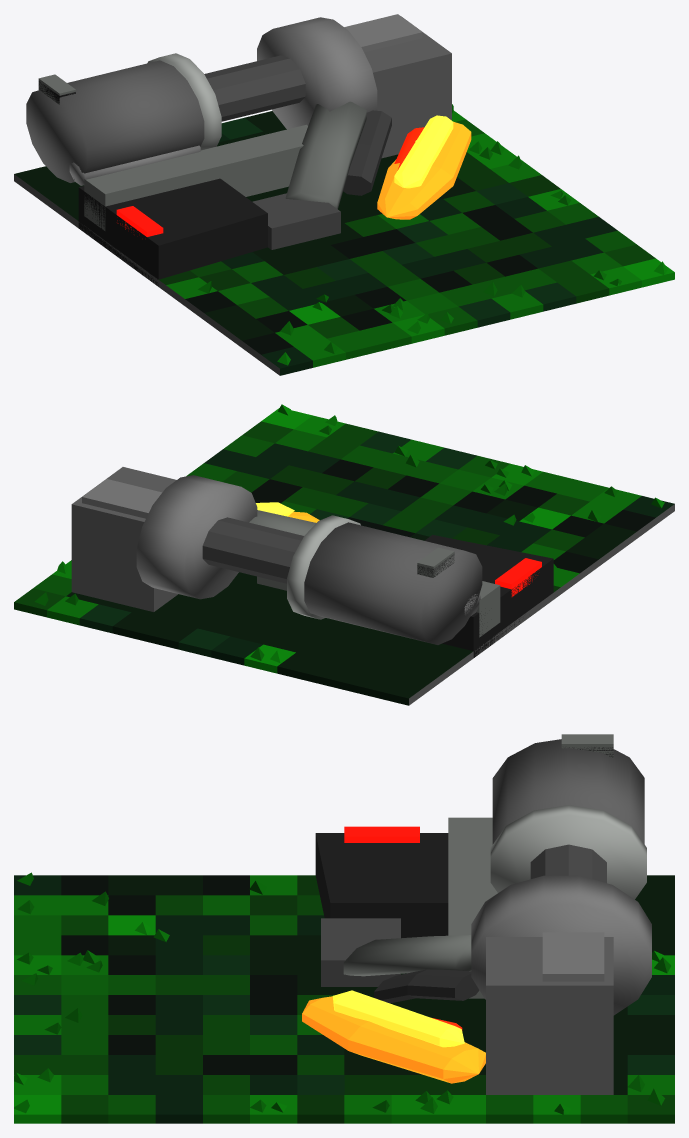
The model's file is newshg-231.glb.
The picture shows the model from 3 angles, top to bottom: view 1: azimuth 30°, elevation 25°; view 2: azimuth 150°, elevation 25°; view 3: azimuth 270°, elevation 25°; orthographic projection. The views are drawn at different scales.
Parts seen in each view (by area): view 1: newshg-231, newshg-231-flare, newshg-231-hatch0; view 2: newshg-231, newshg-231-hatch0, newshg-231-flare; view 3: newshg-231, newshg-231-flare, newshg-231-hatch0.
Boxes of the visible parts, bbox=[...] form: newshg-231: bbox=[14, 14, 674, 375]; newshg-231-flare: bbox=[377, 115, 471, 219]; newshg-231-hatch0: bbox=[38, 74, 75, 104]; newshg-231: bbox=[14, 404, 674, 705]; newshg-231-hatch0: bbox=[417, 547, 454, 577]; newshg-231-flare: bbox=[256, 502, 319, 522]; newshg-231: bbox=[14, 739, 674, 1123]; newshg-231-flare: bbox=[302, 990, 485, 1083]; newshg-231-hatch0: bbox=[561, 734, 613, 758].
Size of the model in its own units: 2 by 0.5854 by 2.33.
